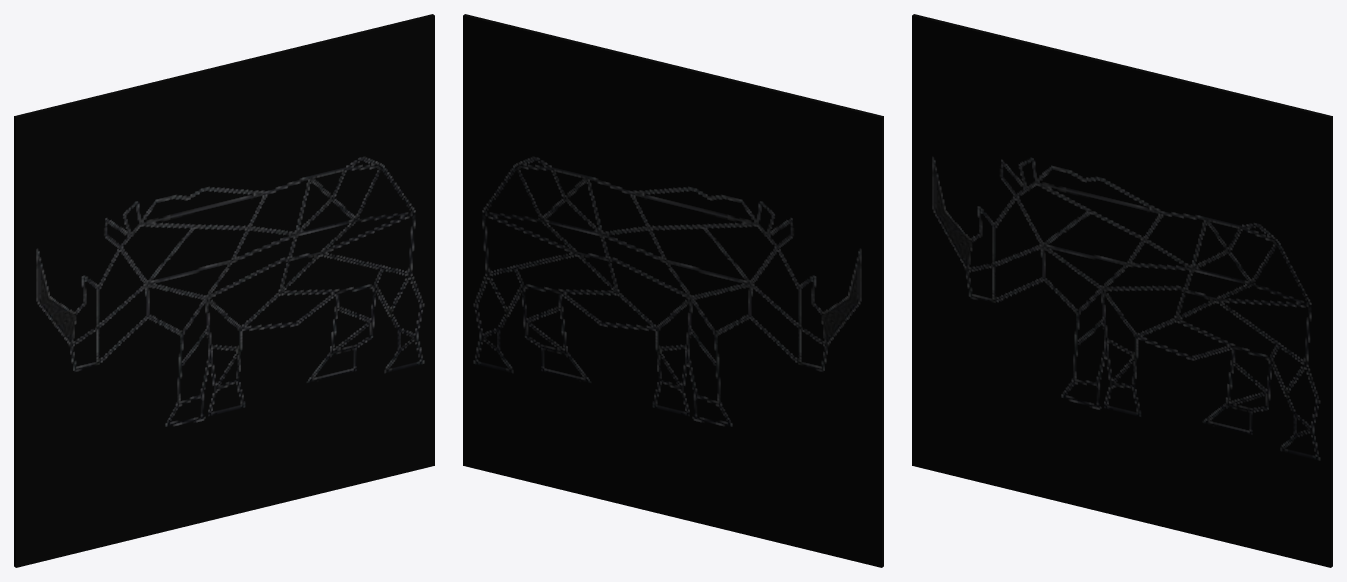
The model's file is rhino.glb.
The picture shows the model from 3 angles, left to right: view 1: azimuth 30°, elevation 25°; view 2: azimuth 150°, elevation 25°; view 3: azimuth 330°, elevation 25°; orthographic projection.
Size of the model in its own units: 1.92 by 1.97 by 0.0167.
Materials: 1 (1 with a texture image).
